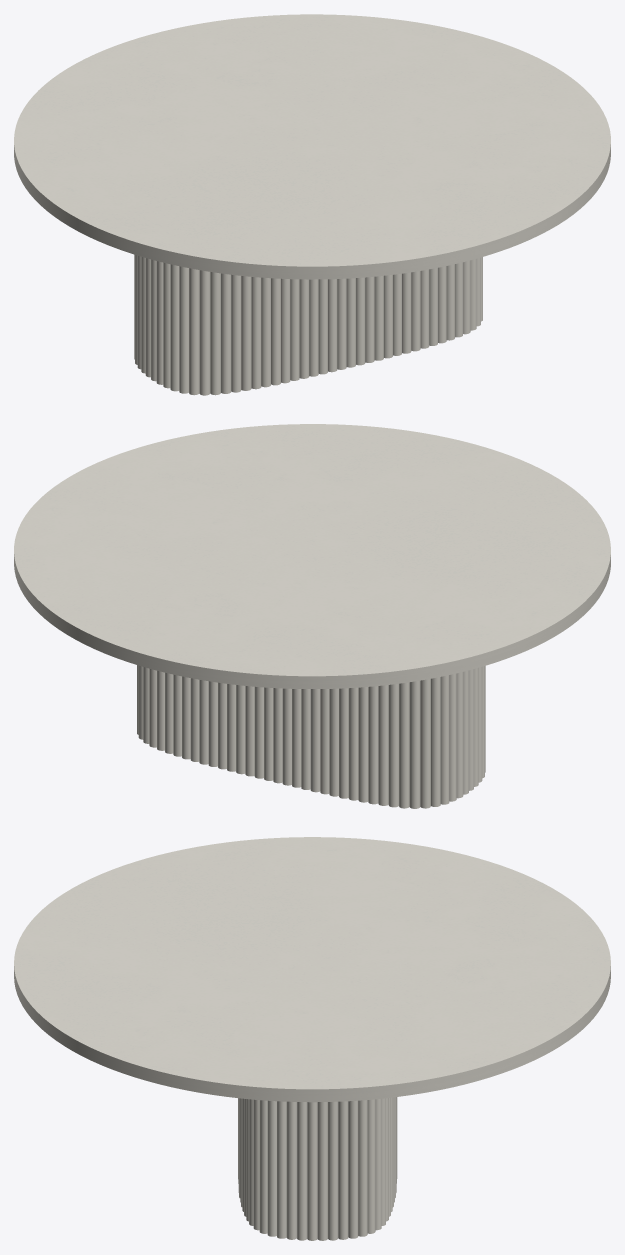
Rendered from pale_round_standard_newtable.glb.
The picture shows the model from 3 angles, top to bottom: view 1: azimuth 30°, elevation 25°; view 2: azimuth 150°, elevation 25°; view 3: azimuth 270°, elevation 25°; orthographic projection.
Visible parts, largest first — view 1: standard_round, newtable; view 2: standard_round, newtable; view 3: standard_round, newtable.
Part boxes in pixels (bbox=[...]): standard_round: bbox=[14, 14, 610, 279]; newtable: bbox=[134, 254, 482, 395]; standard_round: bbox=[14, 424, 610, 688]; newtable: bbox=[137, 665, 485, 808]; standard_round: bbox=[14, 837, 610, 1102]; newtable: bbox=[238, 1097, 397, 1240].
Bounding box in the file's own units: 6.75 × 2.5 × 6.75.
2 materials, 2 textured.
